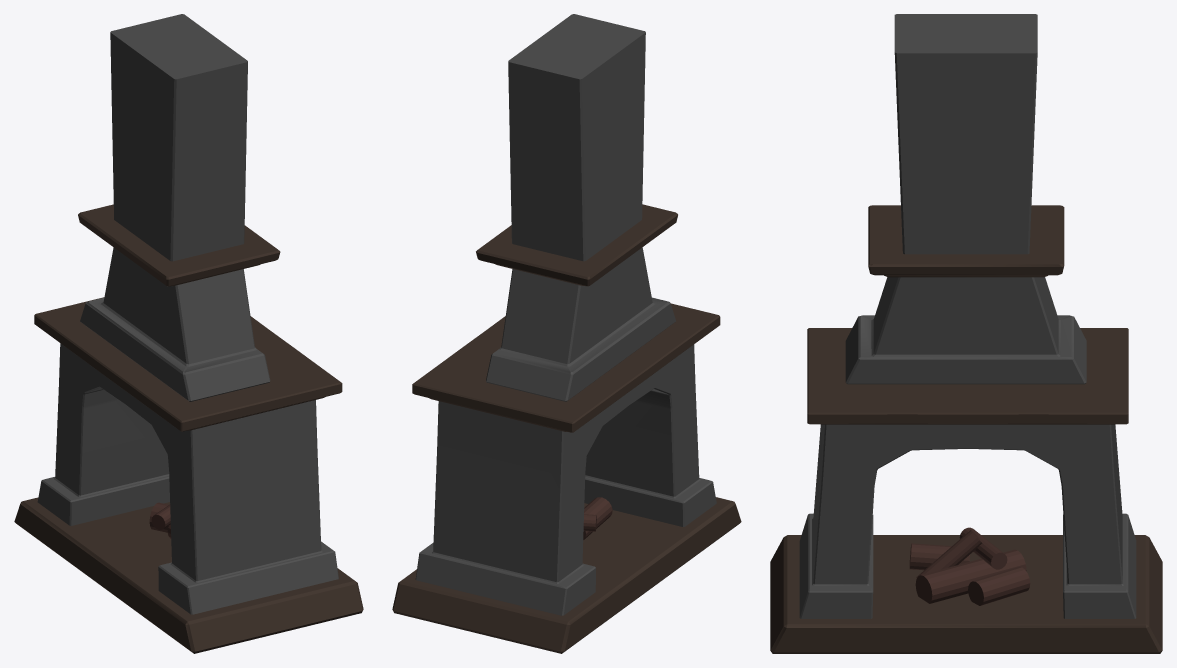
Rendered from camino_F.fbx.
3 views of the same model, side by side, from view 1: azimuth 30°, elevation 25°; view 2: azimuth 150°, elevation 25°; view 3: azimuth 270°, elevation 25° (orthographic). The views are drawn at different scales.
Visible parts, largest first — view 1: Cylinder.004; view 2: Cylinder.004; view 3: Cylinder.004.
Part boxes in pixels (x1=…): Cylinder.004: x1=14, y1=14, x2=363, y2=653; Cylinder.004: x1=392, y1=14, x2=741, y2=653; Cylinder.004: x1=770, y1=14, x2=1162, y2=653.
Size of the model in its own units: 193 by 561 by 350.
